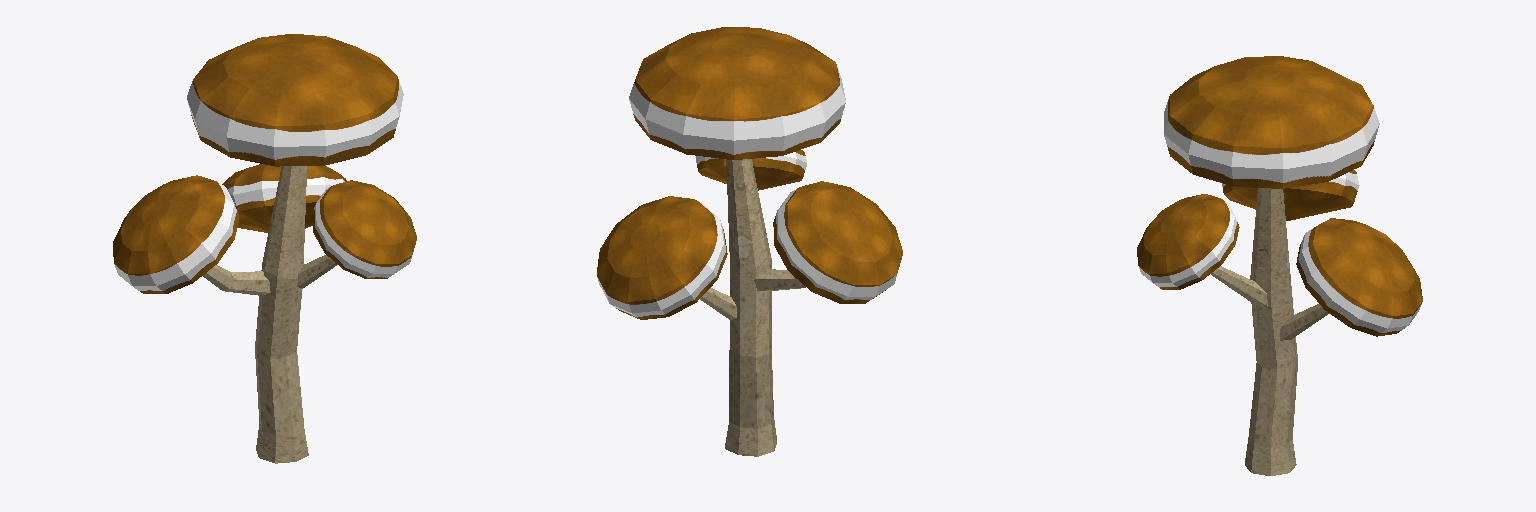
The picture shows the model from 3 angles: view 1: azimuth 30°, elevation 25°; view 2: azimuth 150°, elevation 25°; view 3: azimuth 270°, elevation 25°; orthographic projection.
Parts seen in each view (by area): view 1: tree2_2mesh_tree1mesh_tree1poly; view 2: tree2_2mesh_tree1mesh_tree1poly; view 3: tree2_2mesh_tree1mesh_tree1poly.
Part boxes in pixels (x1,y1,x2,y2): tree2_2mesh_tree1mesh_tree1poly: (113,34,416,463); tree2_2mesh_tree1mesh_tree1poly: (597,27,902,456); tree2_2mesh_tree1mesh_tree1poly: (1137,56,1422,475).
Bounding box in the file's own units: 2.3 × 3.38 × 2.21.
1 materials, 1 textured.